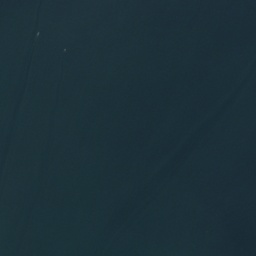Ship: (63, 49, 66, 52)
